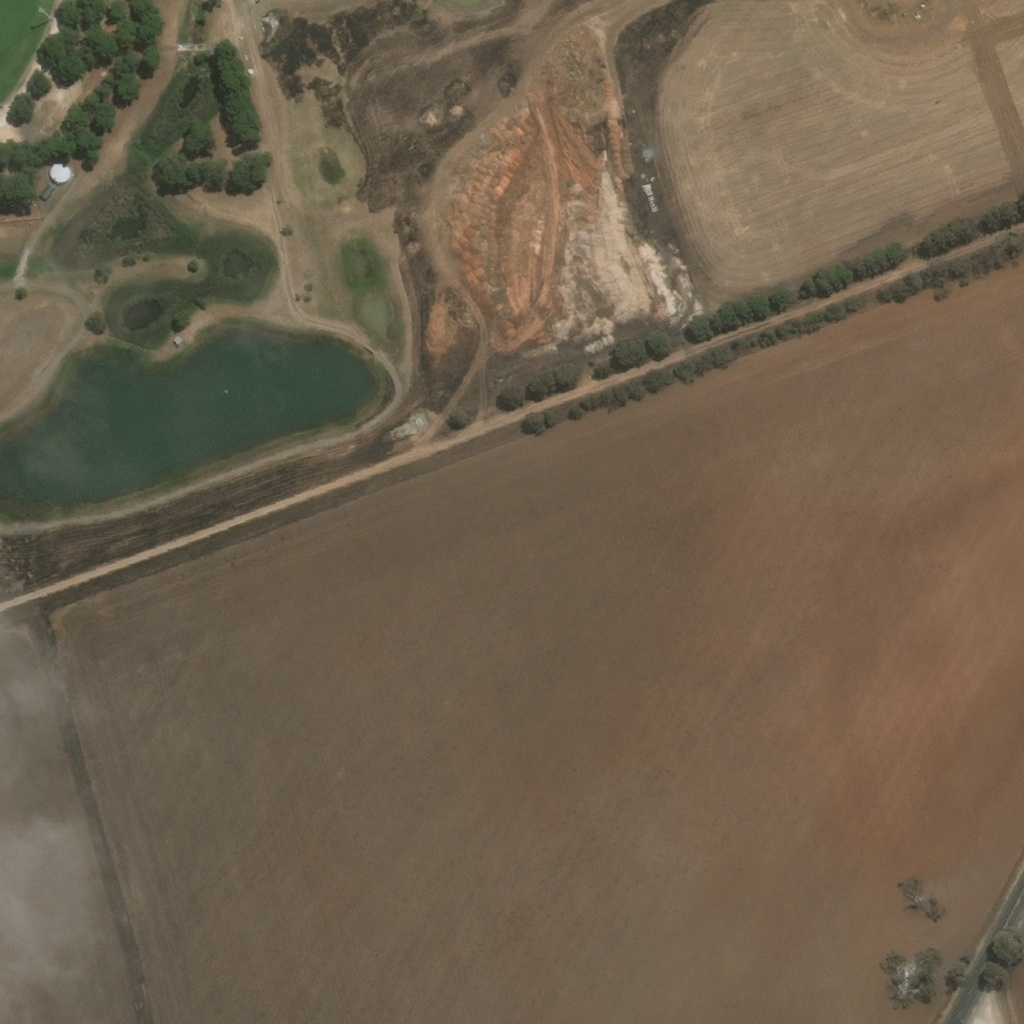0 no-damage: (48, 163, 68, 185), (36, 185, 54, 202), (172, 337, 182, 347)
3 destroyed: (176, 46, 189, 55), (259, 18, 266, 24)
